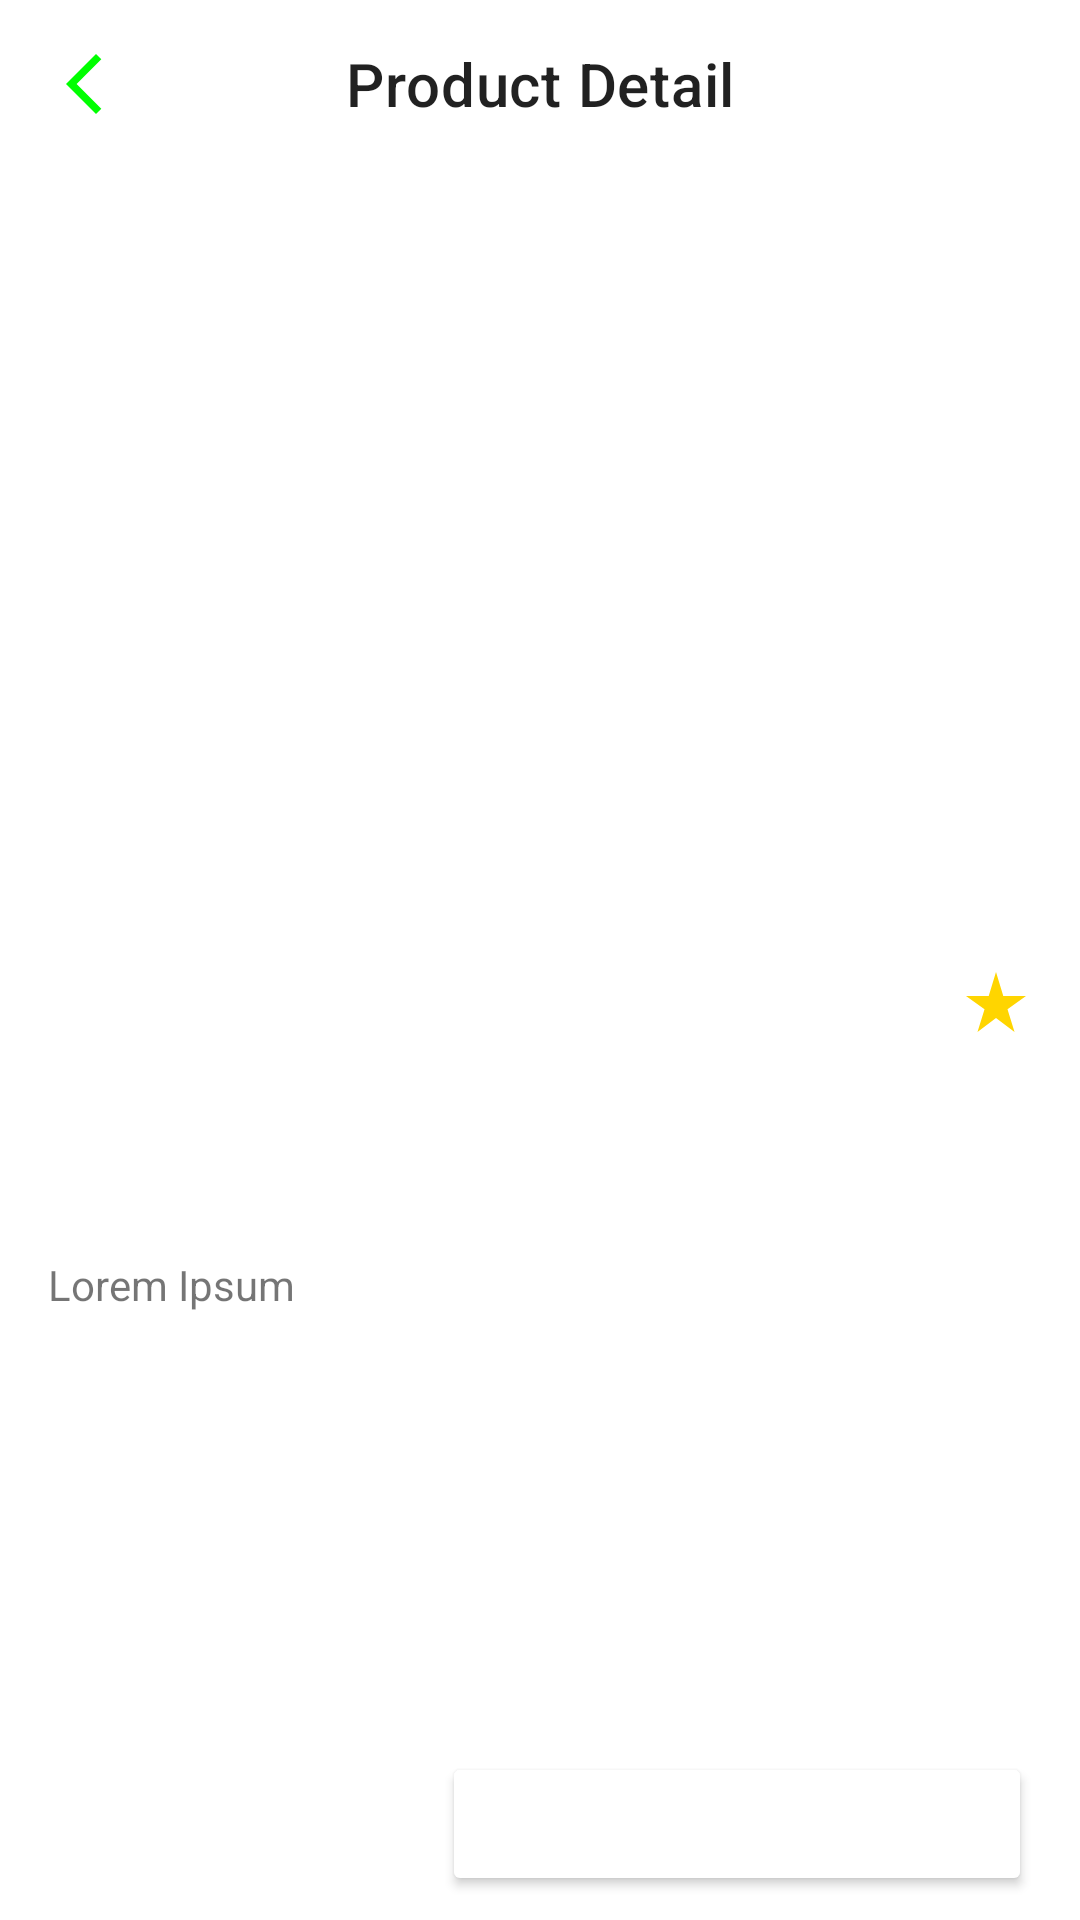

Icon click points for this 1080 x 1920 phone screenshot, format [x,y]:
star: [996,1002]
